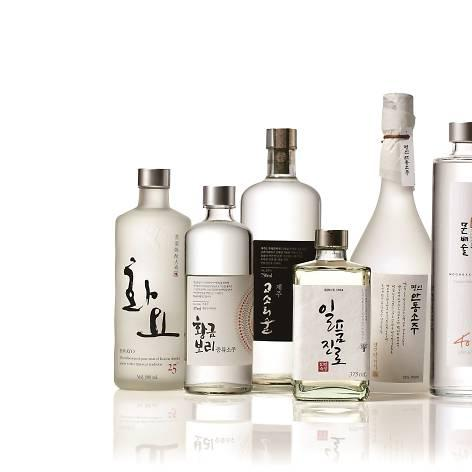soju: (113, 92, 472, 410)
